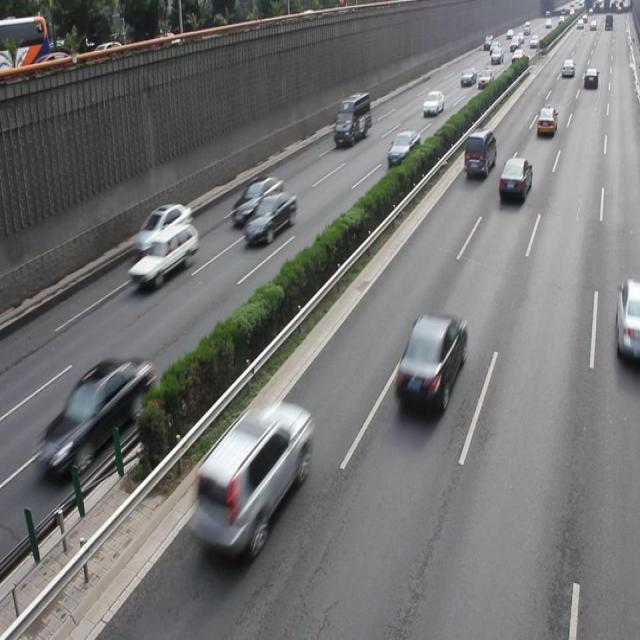car: (188, 402, 312, 558), (45, 356, 154, 476), (394, 311, 467, 411), (127, 224, 199, 286), (134, 200, 192, 252), (242, 188, 296, 243), (230, 172, 283, 224), (614, 279, 640, 362), (498, 156, 532, 202), (387, 130, 420, 168)
truck: (462, 128, 495, 178)
